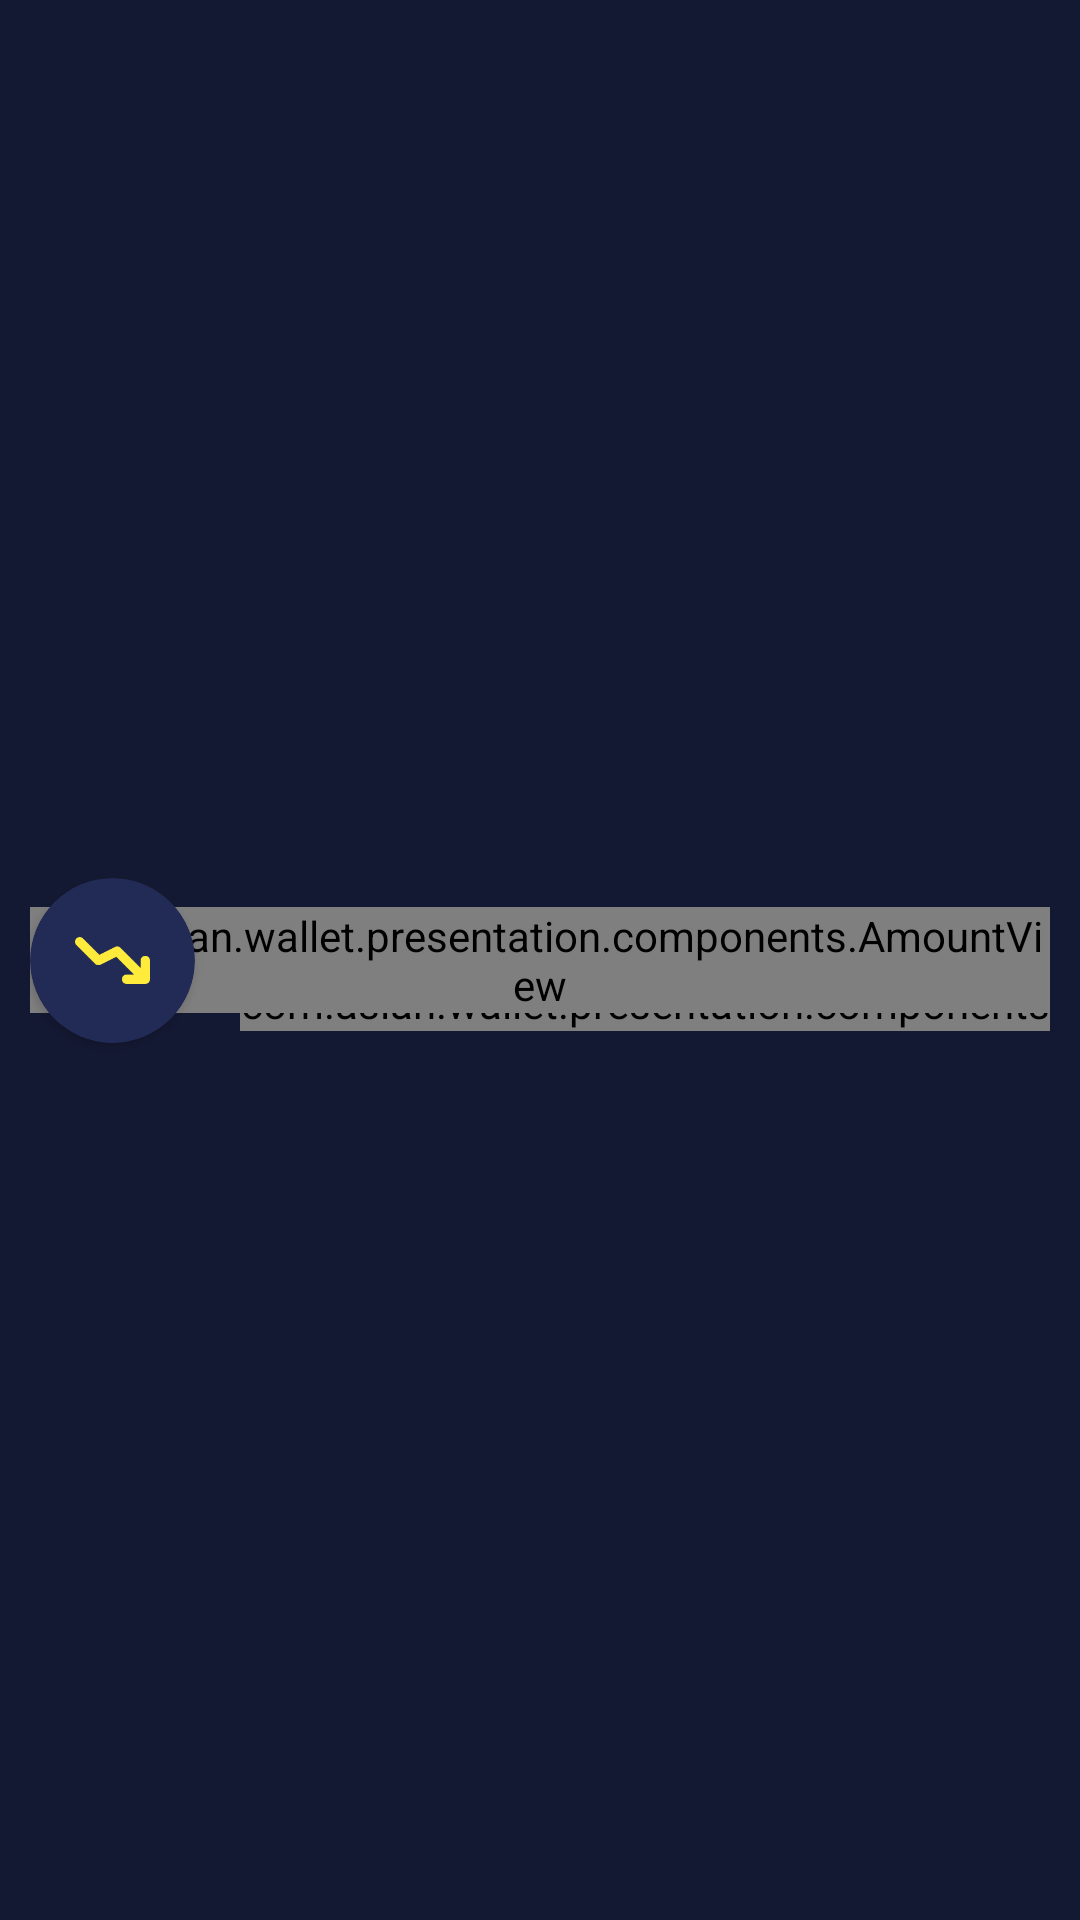

Where icons sit on this 1080×1920 app screen, as [x1, y1, x2, y2]:
Category Image: [30, 878, 195, 1043]
